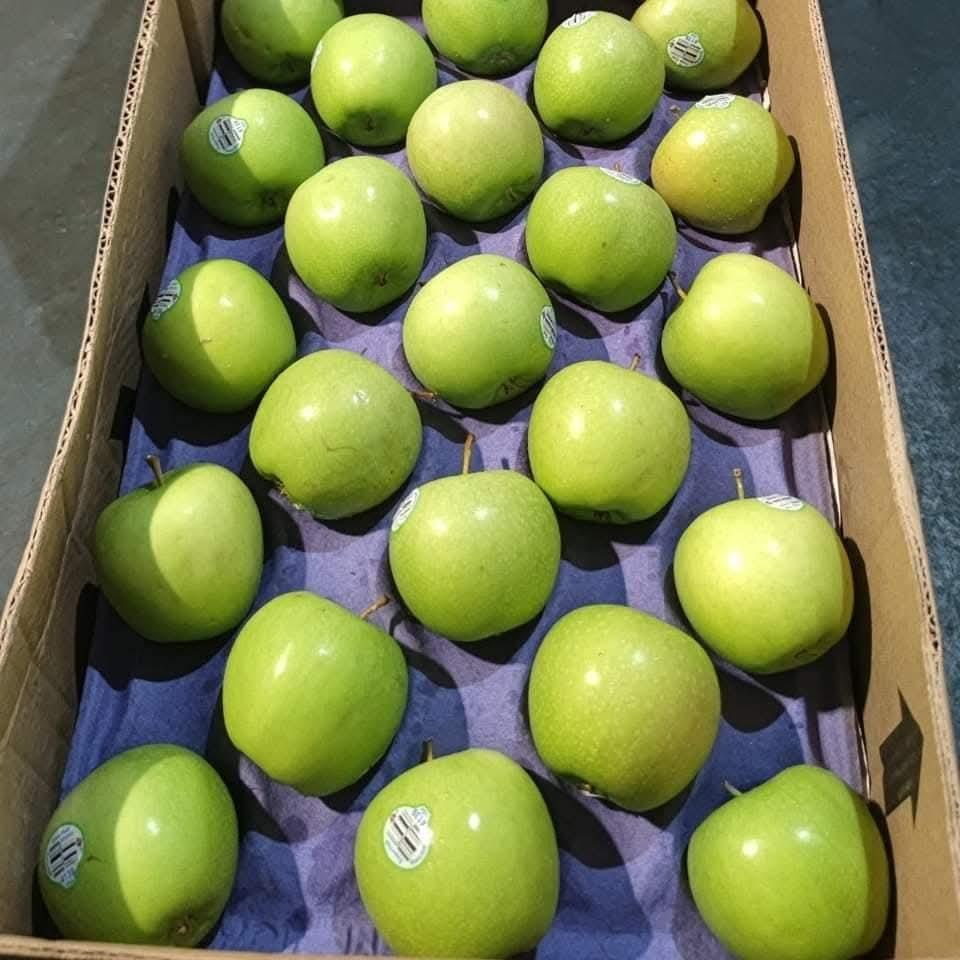non-mango: (367, 733, 567, 957), (520, 598, 725, 812), (223, 568, 403, 796), (45, 741, 245, 944), (675, 473, 860, 674), (690, 761, 880, 954), (655, 243, 842, 430), (398, 441, 563, 646), (88, 446, 263, 639), (390, 248, 573, 412), (253, 338, 413, 514), (525, 153, 672, 319), (280, 153, 428, 312), (650, 83, 797, 234), (138, 256, 285, 407), (400, 78, 552, 224), (170, 88, 318, 225), (530, 11, 670, 149), (310, 6, 428, 147)
